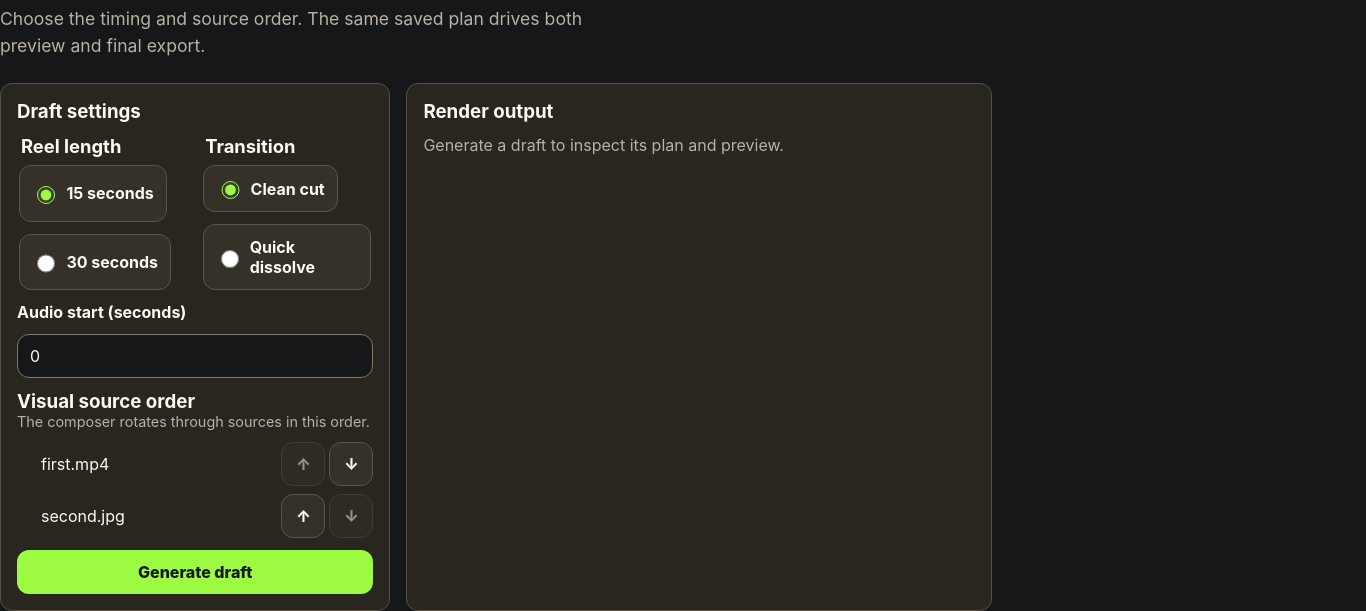
it: shows the backend ApiError code and message
This screenshot has width=1366, height=611.
(page scrolled)
Click the button "Generate draft". click: {"x": 195, "y": 572}
box: [17,550,373,594]
(page scrolled)
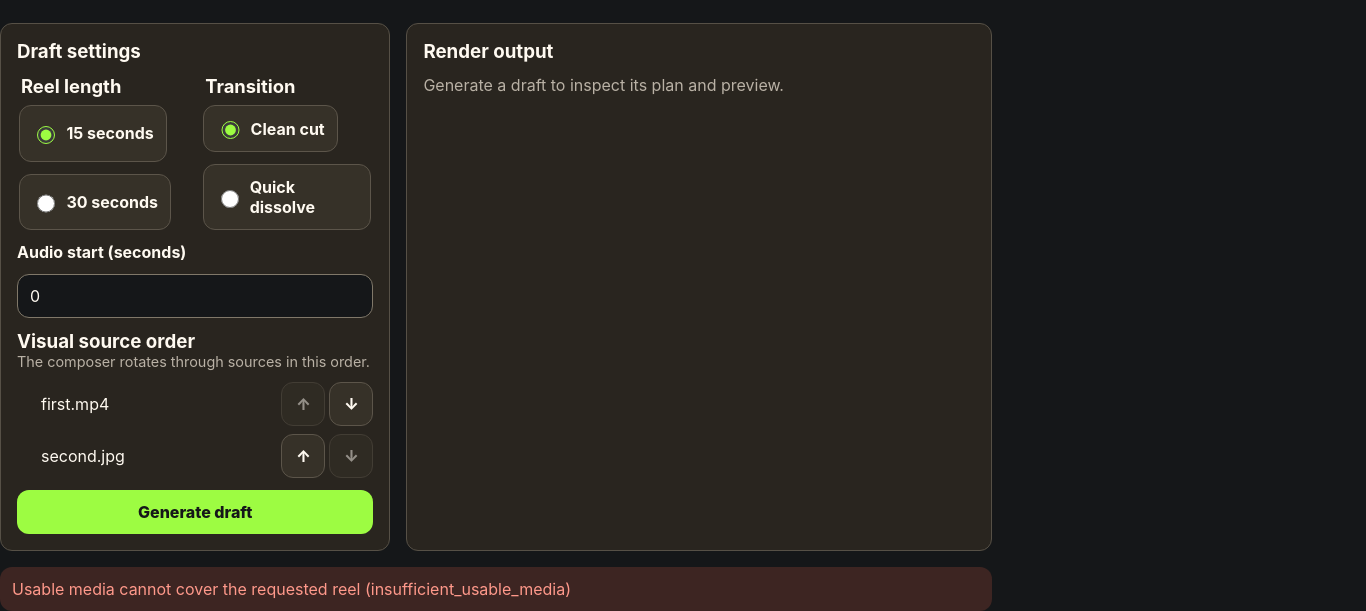
Check: the message shows "Usable media cannot cover the requested reel", box [12,579,360,599]
Check: the message shows "insufficient_usable_media", box [360,579,571,599]
